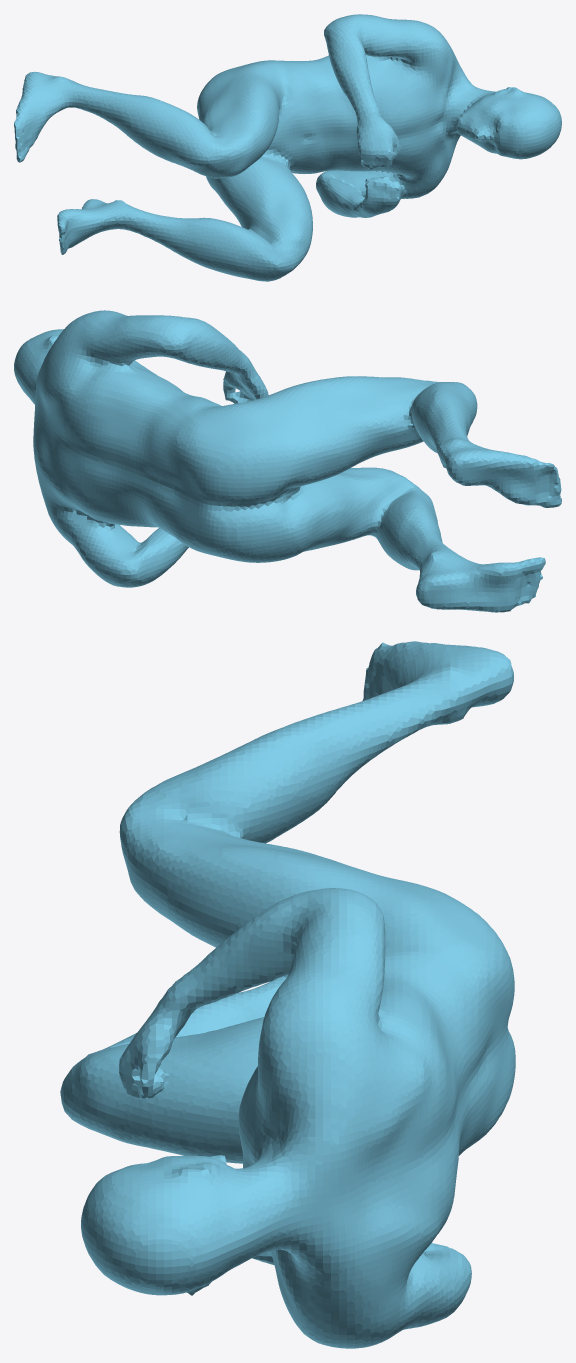
The model's file is body1-1.fbx.
3 views of the same model, one above another, from view 1: azimuth 30°, elevation 25°; view 2: azimuth 150°, elevation 25°; view 3: azimuth 270°, elevation 25° (orthographic). The views are drawn at different scales.
Parts seen in each view (by area): view 1: MBlab_bd1606175156.6741917; view 2: MBlab_bd1606175156.6741917; view 3: MBlab_bd1606175156.6741917.
Boxes of the visible parts, x1,y1,x2,y2 form: MBlab_bd1606175156.6741917: (14, 14, 561, 281); MBlab_bd1606175156.6741917: (14, 310, 561, 612); MBlab_bd1606175156.6741917: (60, 641, 515, 1348).
Bounding box in the file's own units: 142 × 56.81 × 57.24.
